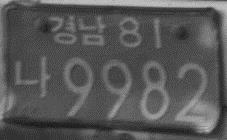1: (150, 14, 165, 53)
2: (170, 60, 210, 125)
8: (137, 57, 171, 123), (117, 14, 144, 50)
9: (100, 56, 133, 123), (60, 56, 95, 117)
경남_O: (47, 14, 107, 48)
나: (12, 54, 53, 100)
